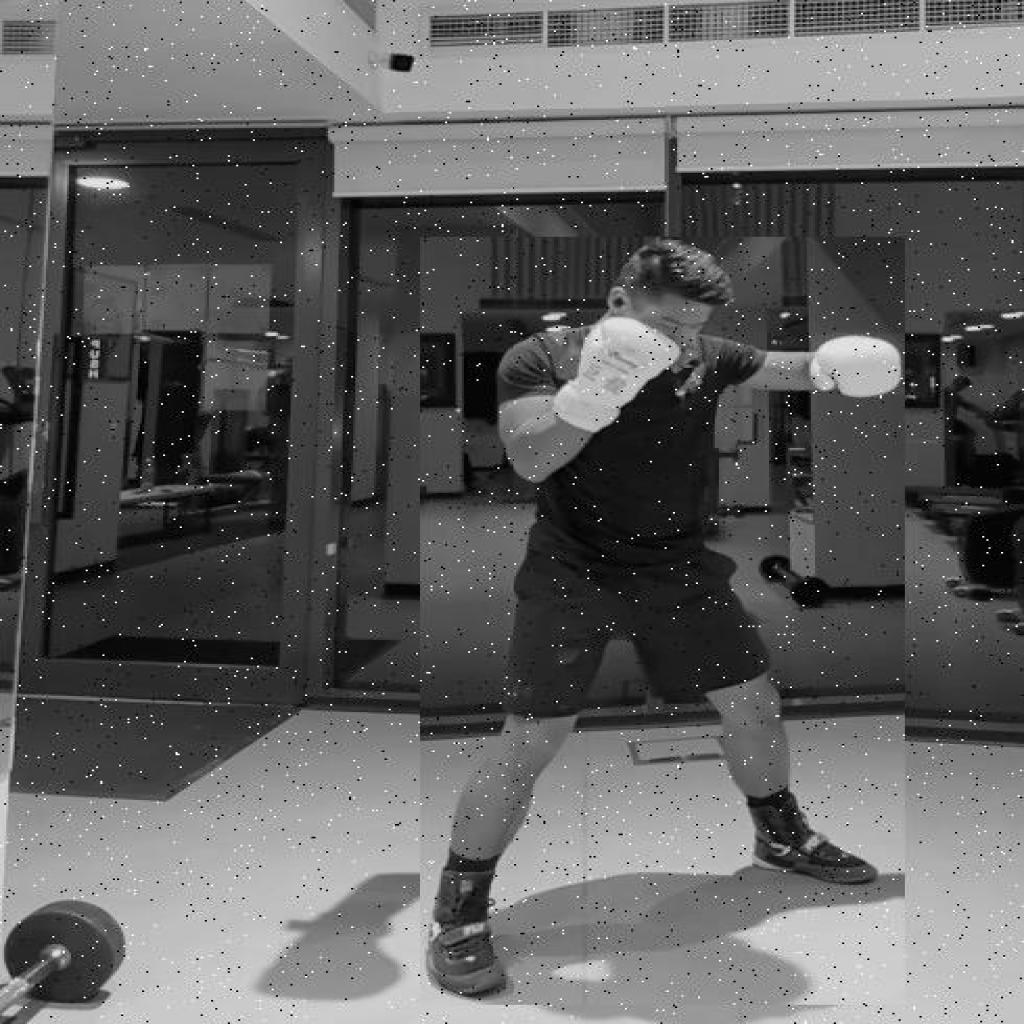hook: (420, 237, 905, 1004)
